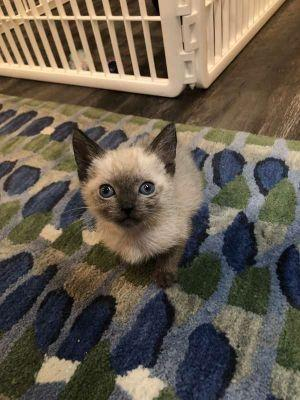siamese: (65, 113, 189, 236)
